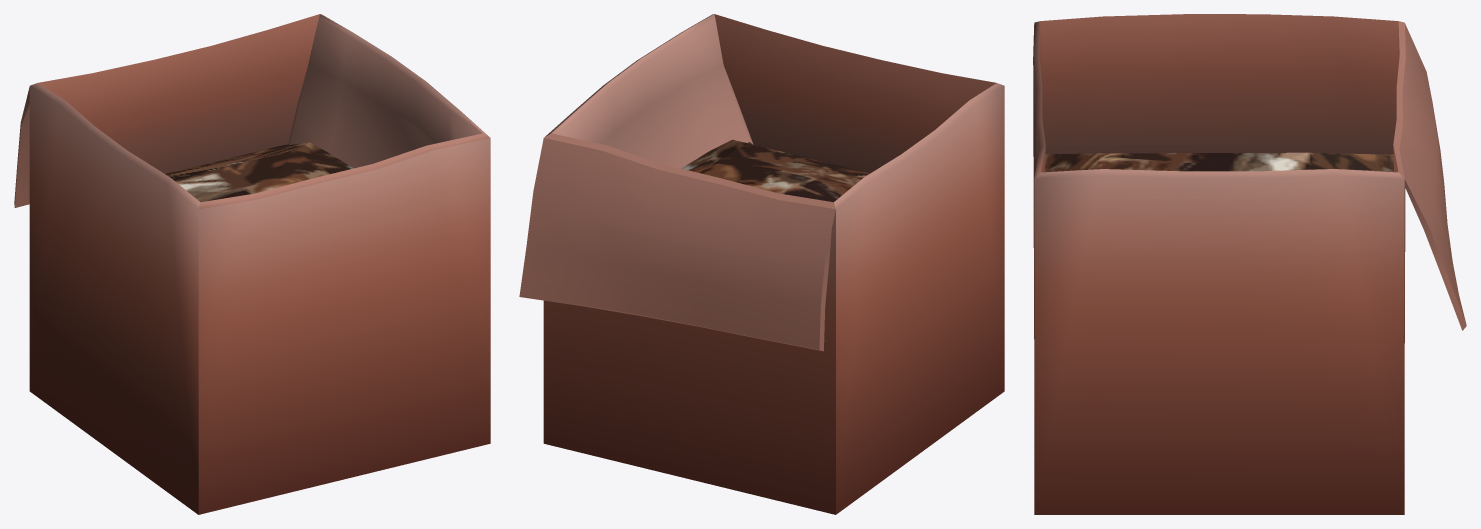
Rendered from Trash_011.fbx.
The picture shows the model from 3 angles, left to right: view 1: azimuth 30°, elevation 25°; view 2: azimuth 150°, elevation 25°; view 3: azimuth 270°, elevation 25°; orthographic projection. The views are drawn at different scales.
Parts seen in each view (by area): view 1: Trash_011; view 2: Trash_011; view 3: Trash_011.
Boxes of the visible parts, x1,y1,x2,y2 form: Trash_011: [14, 14, 490, 514]; Trash_011: [519, 14, 1004, 514]; Trash_011: [1033, 14, 1466, 514].
Size of the model in its own units: 28.56 by 32.17 by 28.15.
